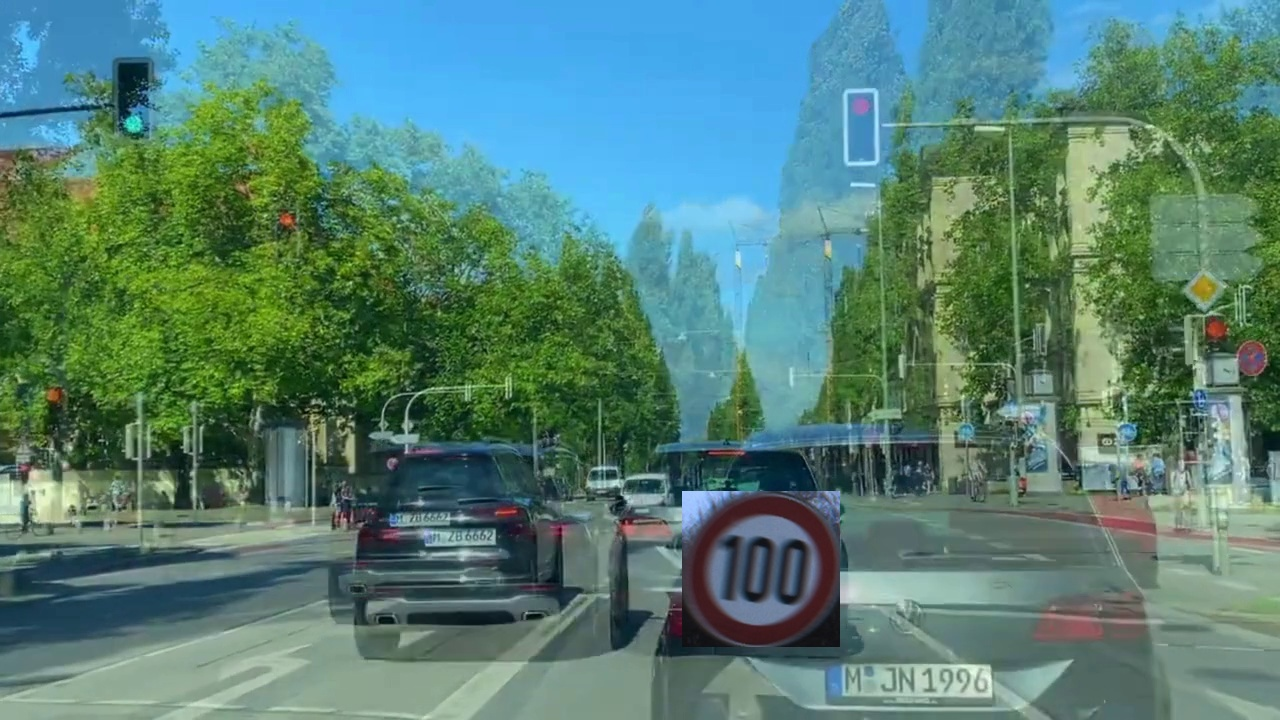Speed 100: (682, 491, 840, 647)
